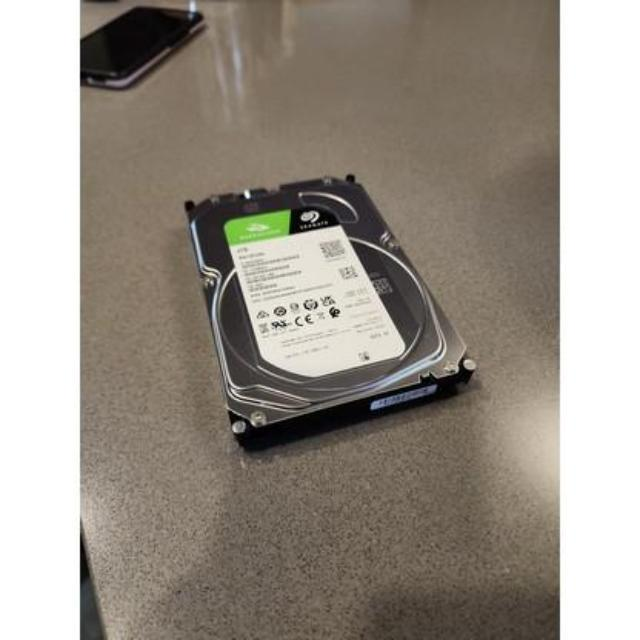DISK: (183, 178, 472, 446)
